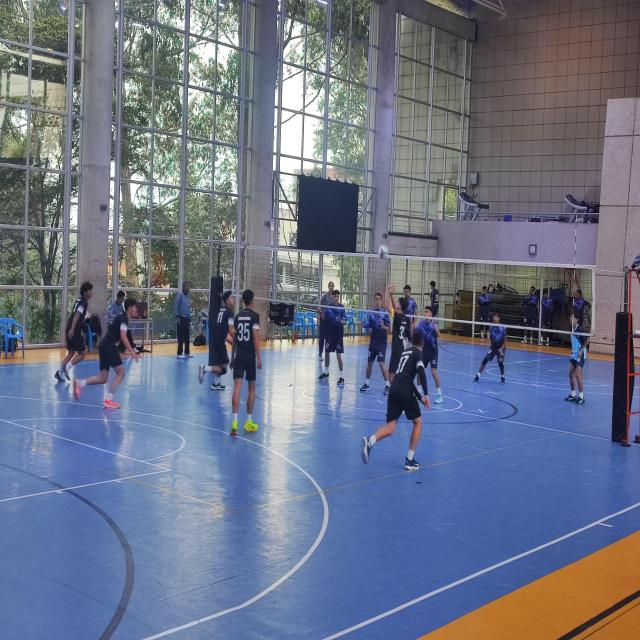volleyball: (378, 243, 389, 260)
